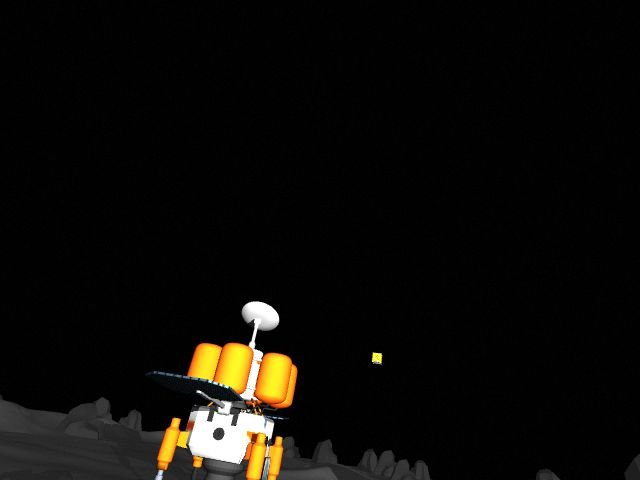cubesat: (371, 351, 384, 366)
